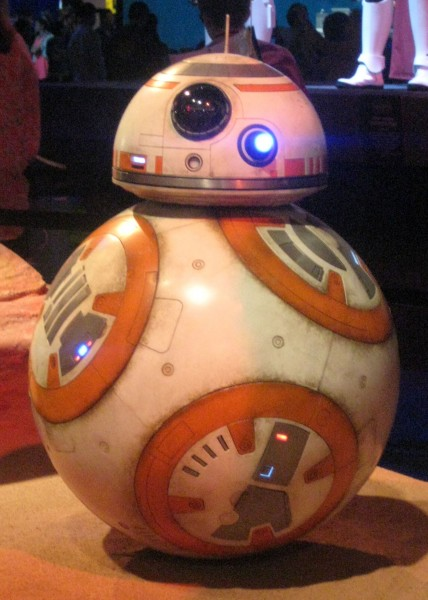bb8: (28, 53, 401, 558)
